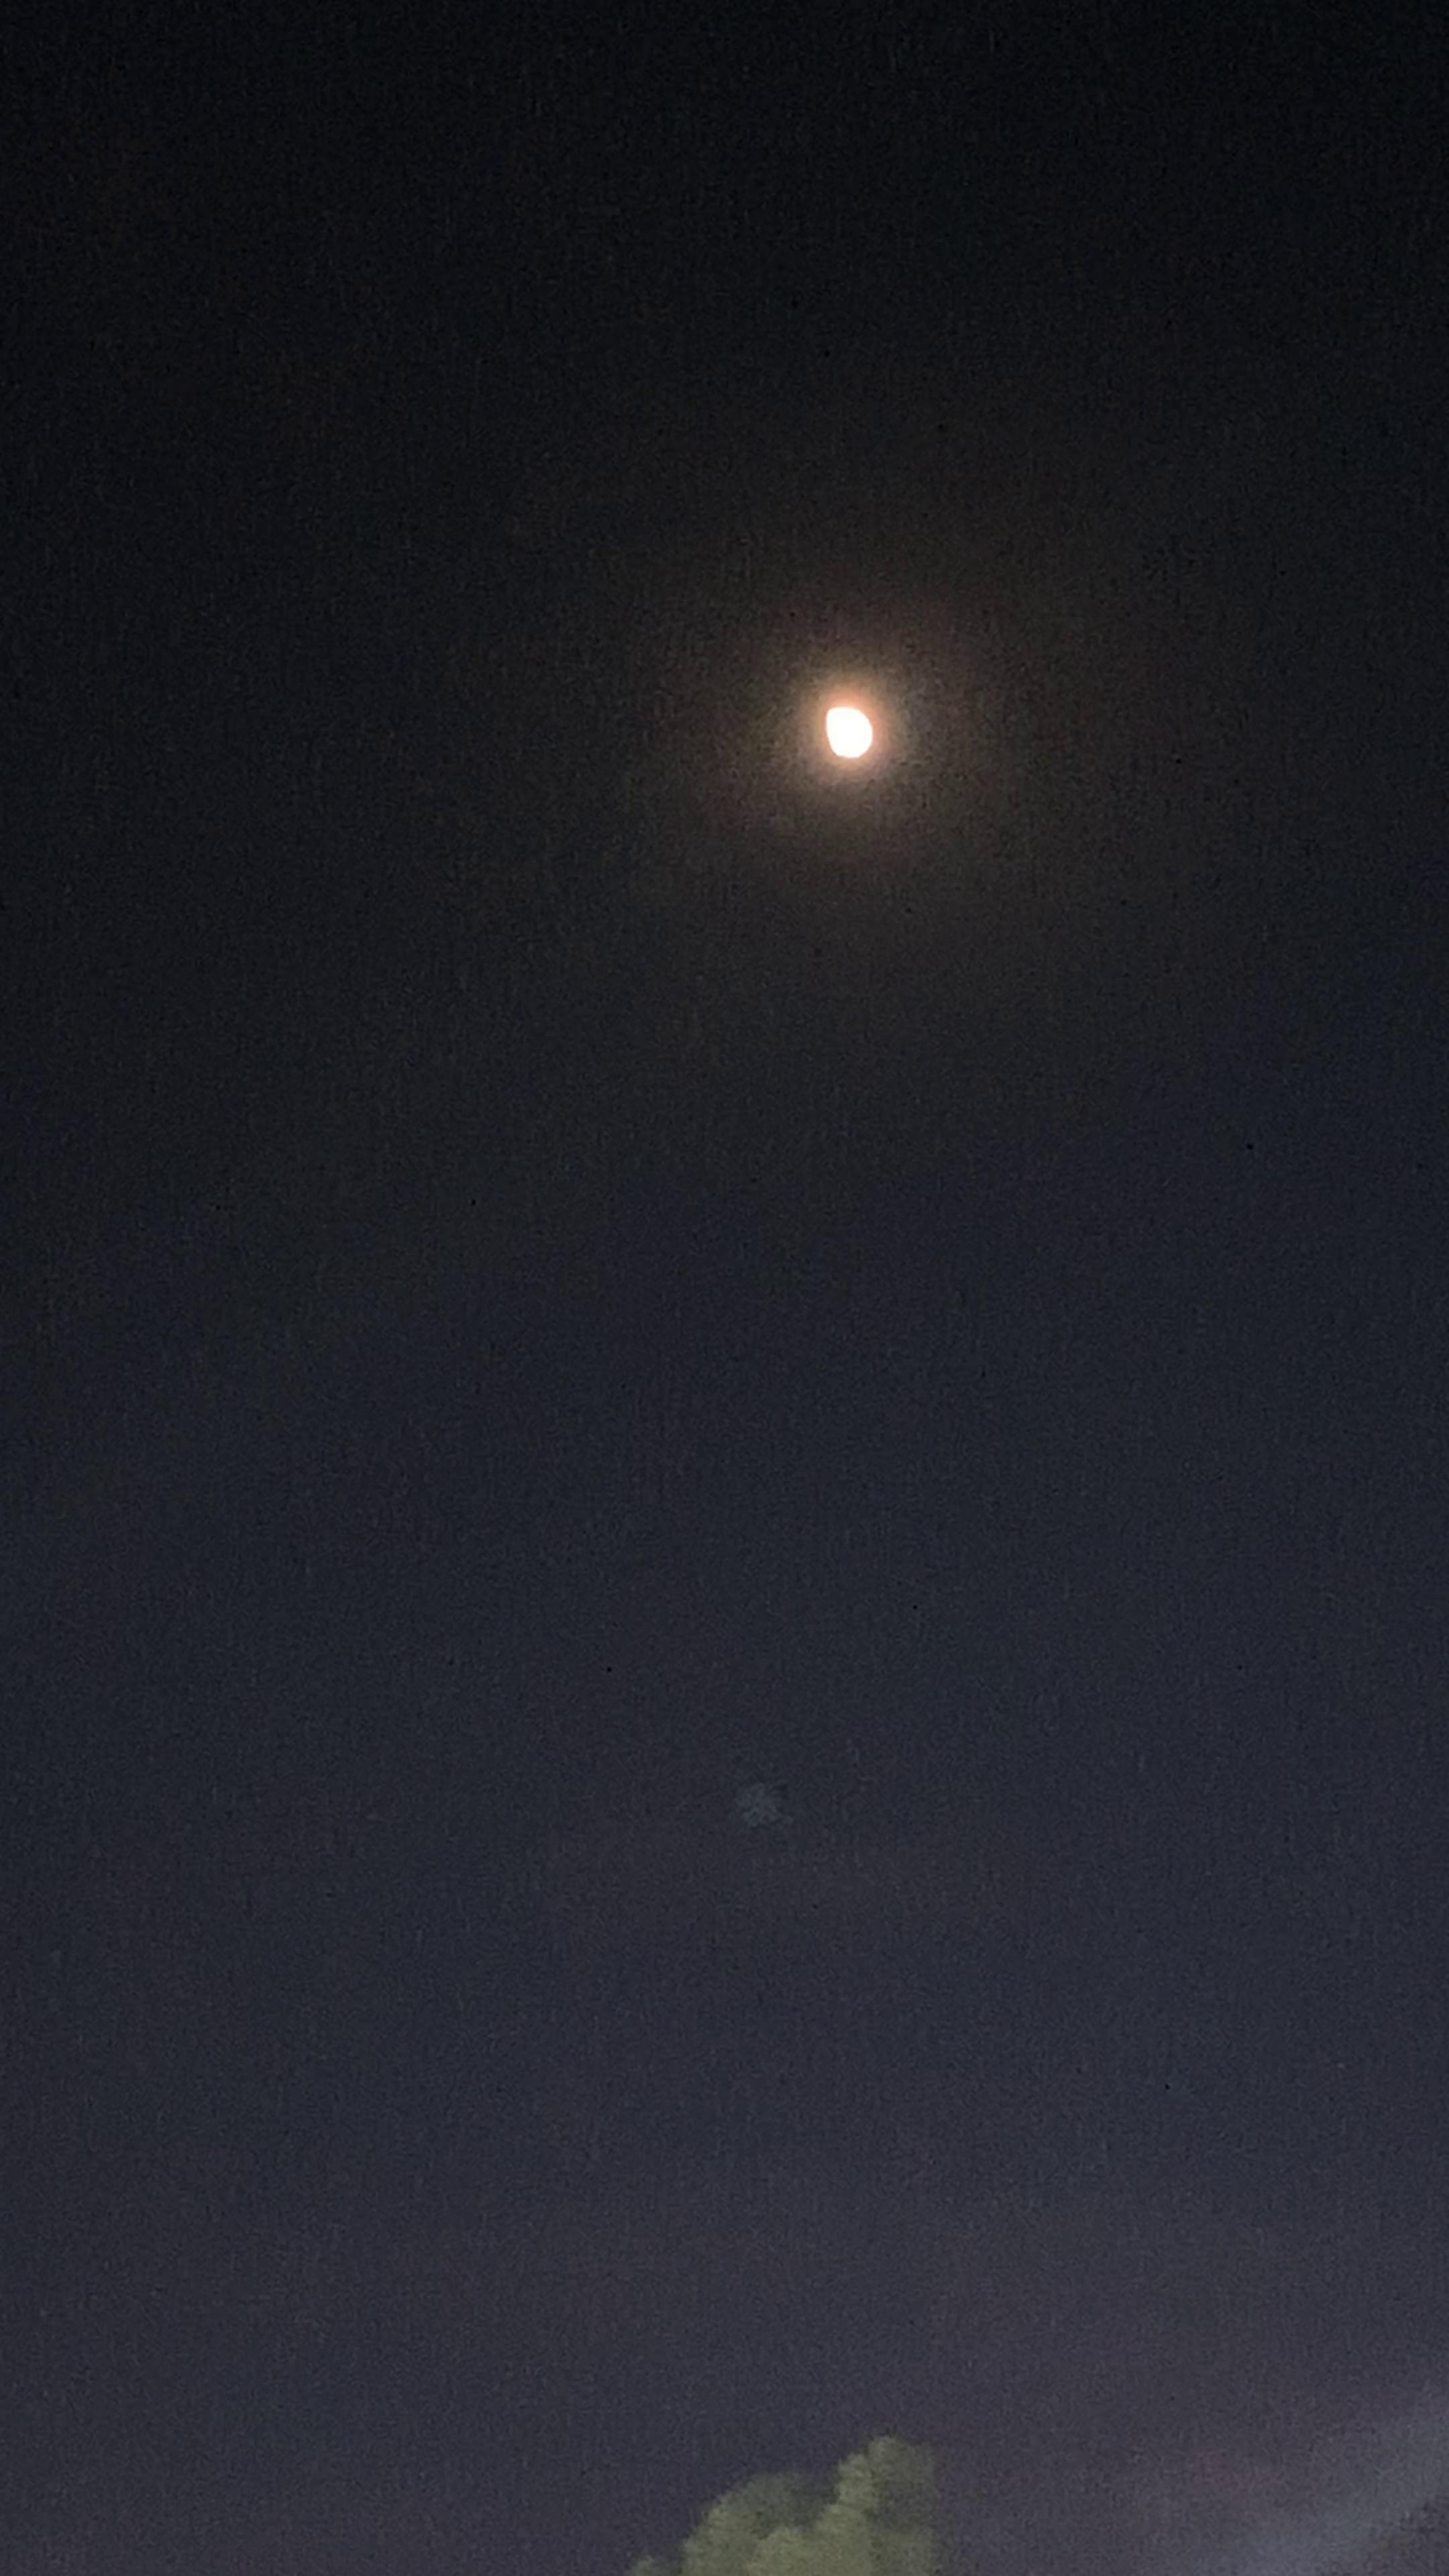moon: (766, 648, 925, 794)
